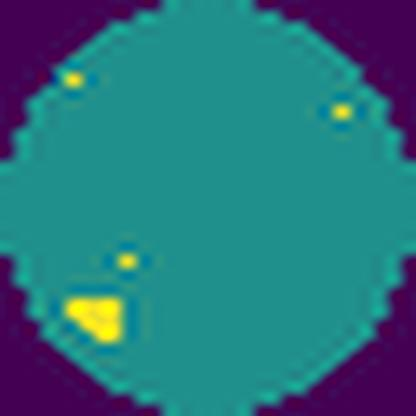Loc: (65, 291, 128, 349)
